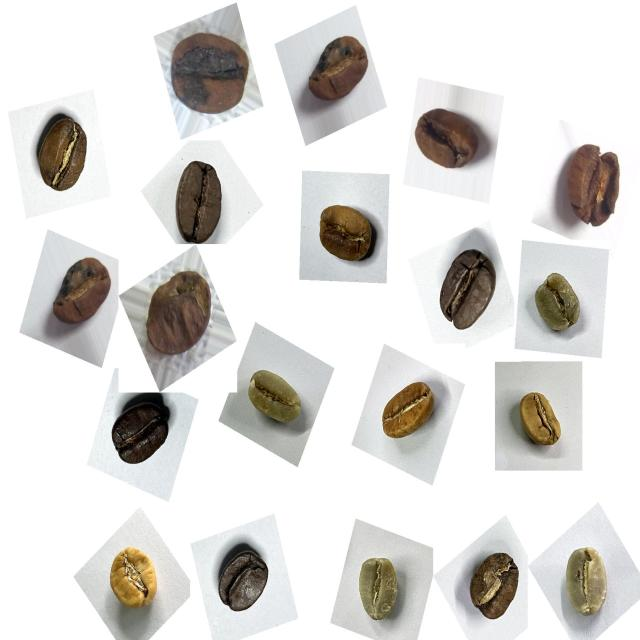bad: (162, 16, 258, 127), (138, 260, 221, 365), (552, 133, 631, 237), (406, 97, 488, 185), (300, 25, 376, 116), (44, 248, 116, 341)
dark: (426, 240, 503, 344), (162, 151, 238, 244), (104, 390, 180, 478), (208, 534, 278, 626)
green: (552, 536, 620, 628), (239, 358, 313, 437), (348, 545, 413, 633), (525, 264, 593, 347)
light: (372, 373, 445, 457), (100, 536, 168, 624), (512, 379, 574, 459)
medium: (26, 110, 101, 208), (307, 192, 384, 278), (458, 545, 527, 635)
